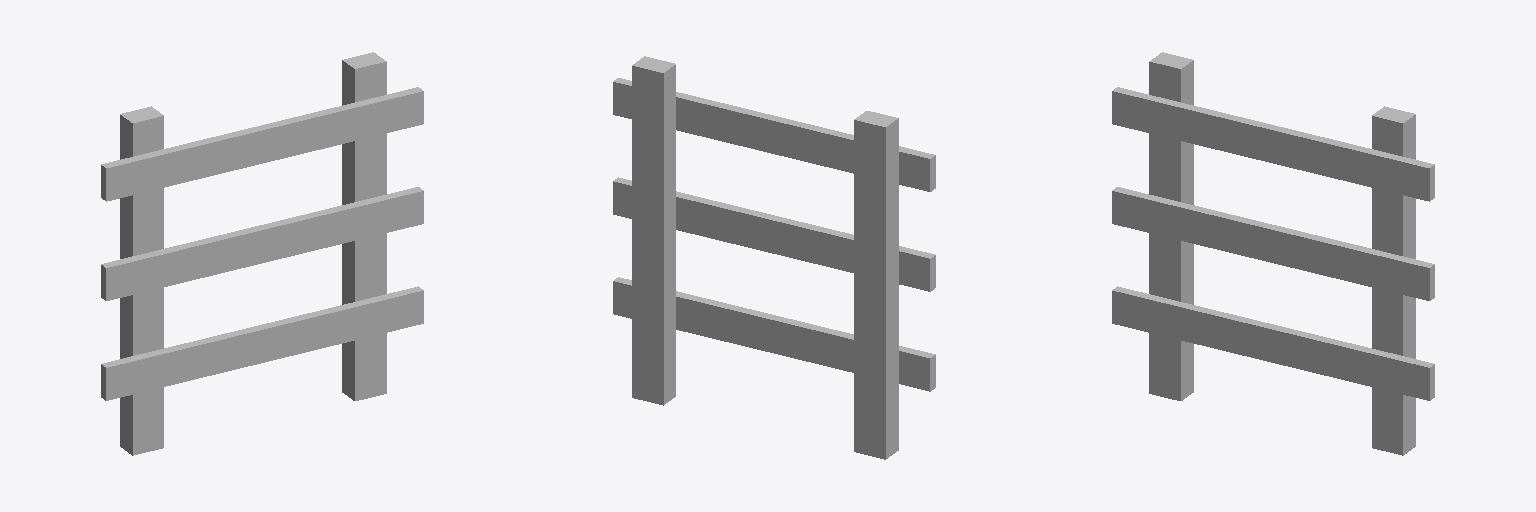
The model's file is woodfencez+.obj.
The picture shows the model from 3 angles: view 1: azimuth 30°, elevation 25°; view 2: azimuth 150°, elevation 25°; view 3: azimuth 330°, elevation 25°; orthographic projection.
Parts seen in each view (by area): view 1: bedx+.018; view 2: bedx+.018; view 3: bedx+.018.
Part boxes in pixels (bbox=[...]): bedx+.018: bbox=[101, 52, 423, 455]; bedx+.018: bbox=[613, 56, 935, 459]; bedx+.018: bbox=[1112, 52, 1434, 455].
Bounding box in the file's own units: 1 × 1 × 0.1.